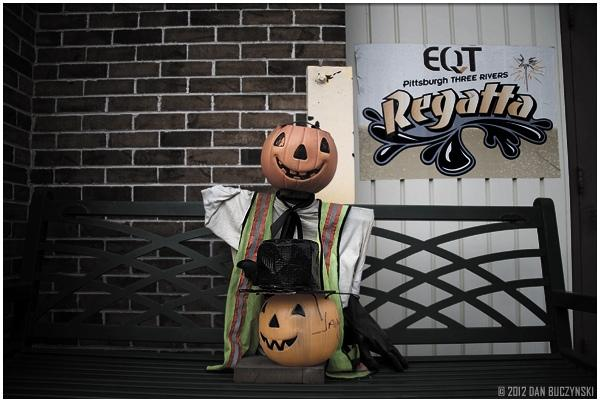pumpkin: (258, 292, 340, 368), (261, 121, 337, 193)
